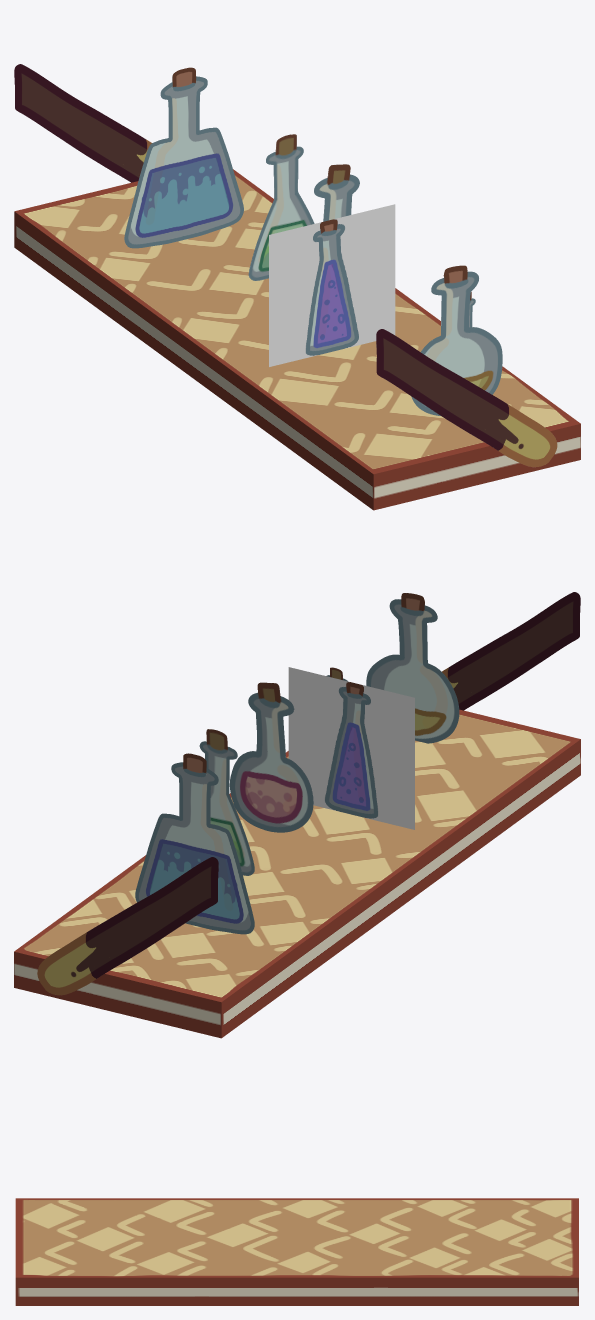
Rendered from Potion_cabinet01.fbx.
3 renders of one model, top to bottom at view 1: azimuth 30°, elevation 25°; view 2: azimuth 150°, elevation 25°; view 3: azimuth 270°, elevation 25°, orthographic. The views are drawn at different scales.
Parts seen in each view (by area): view 1: pCube6, pPlane154, pPlane153, pPlane141, pPlane142, pPlane98, pPlane156, pPlane152; view 2: pCube6, pPlane154, pPlane153, pPlane142, pPlane152, pPlane98, pPlane141, pPlane156; view 3: pCube6.
Part boxes in pixels (x1,y1,x2,y2): pCube6: (14, 169, 580, 510); pPlane154: (269, 204, 395, 366); pPlane153: (124, 67, 243, 248); pPlane141: (376, 329, 557, 467); pPlane142: (14, 64, 151, 182); pPlane98: (411, 265, 502, 415); pPlane156: (248, 134, 314, 280); pPlane152: (314, 164, 359, 221); pCube6: (14, 709, 580, 1038); pPlane154: (288, 667, 414, 829); pPlane153: (135, 753, 254, 934); pPlane142: (37, 857, 218, 995); pPlane152: (229, 682, 313, 832); pPlane98: (366, 593, 459, 743); pPlane141: (442, 592, 580, 710); pPlane156: (199, 729, 254, 875); pCube6: (15, 1198, 578, 1305).
Bounding box in the file's own units: 1.82 × 1.75 × 5.45.
7 materials, 7 textured.
